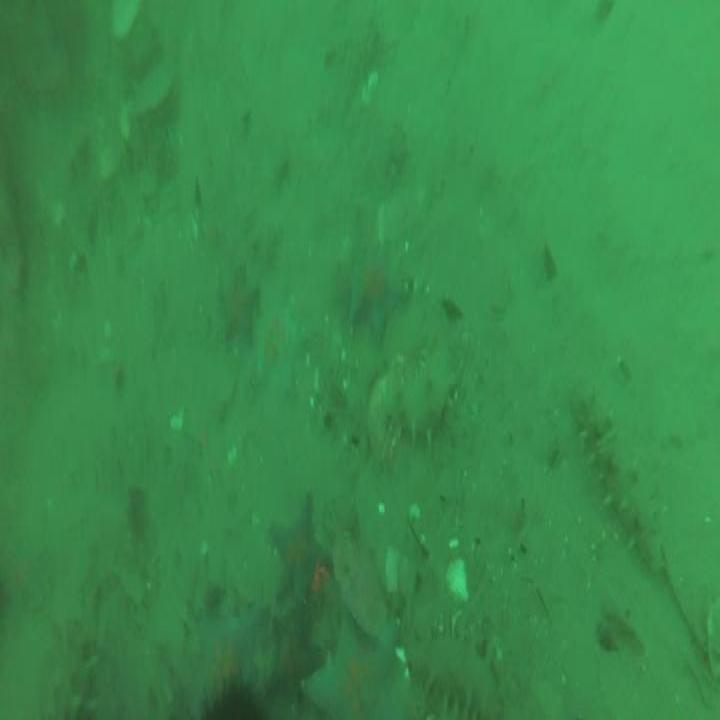holothurian: (574, 393, 665, 571), (409, 631, 498, 720), (389, 363, 454, 432)
starfish: (303, 622, 402, 720), (184, 604, 259, 702), (251, 292, 304, 398), (351, 244, 409, 340), (266, 500, 323, 596), (268, 612, 319, 690), (217, 272, 258, 341)
